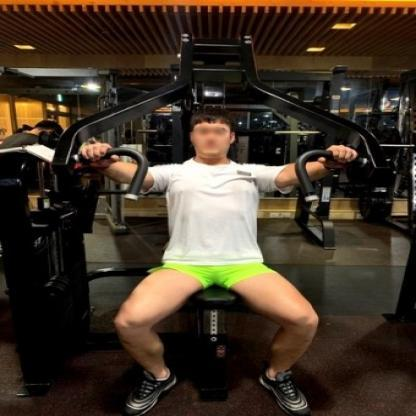Chest Press machine: (5, 29, 386, 416)
